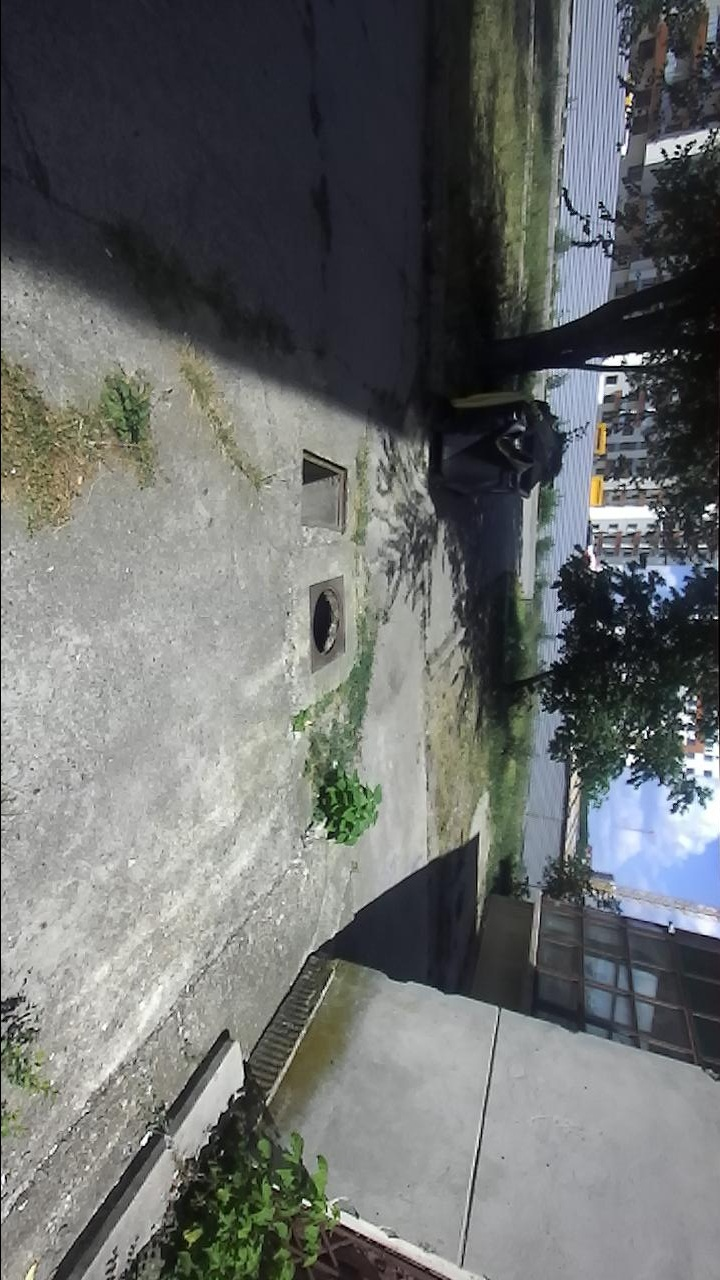drain: (299, 444, 349, 534), (307, 583, 347, 663)
